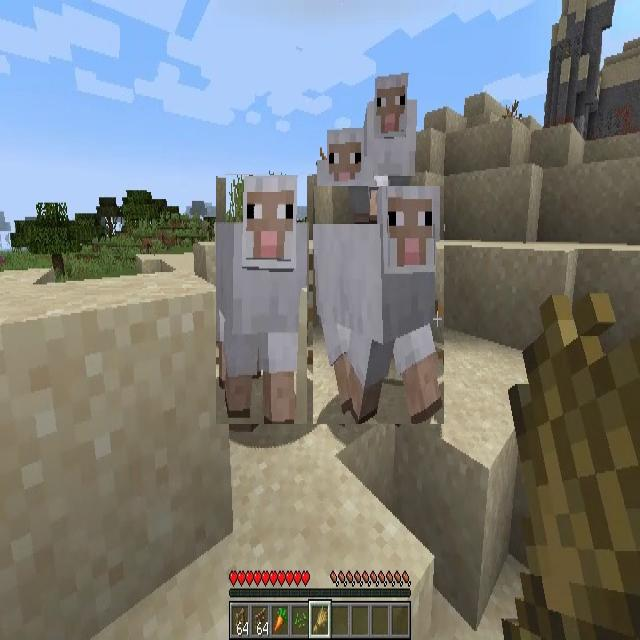sheep: (313, 186, 444, 424), (216, 175, 307, 424), (366, 78, 418, 205), (318, 126, 366, 232)
